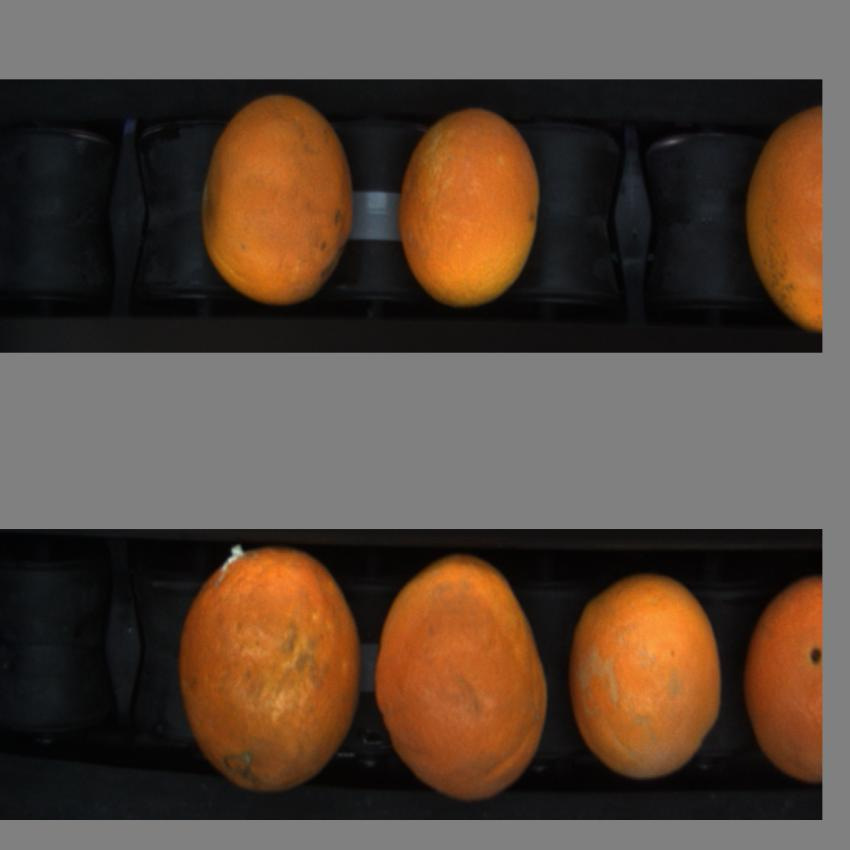Buen estado: (376, 544, 551, 796), (565, 558, 726, 794), (202, 88, 356, 311), (396, 110, 544, 304), (738, 580, 825, 784), (746, 103, 822, 332)
Mal estado: (181, 538, 358, 787)
